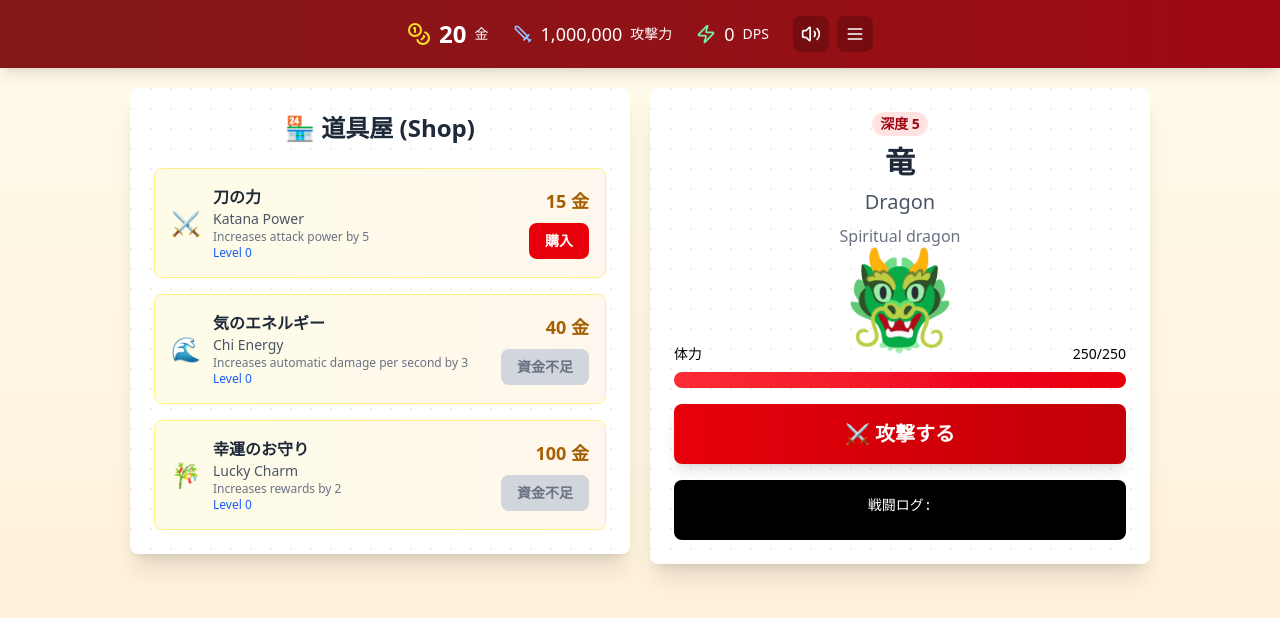
Test: generated bestiary › uses generated flavour once it has been cached
Click the button "⚔️ 攻撃する" at (900, 434), box [674,404,1126,464]
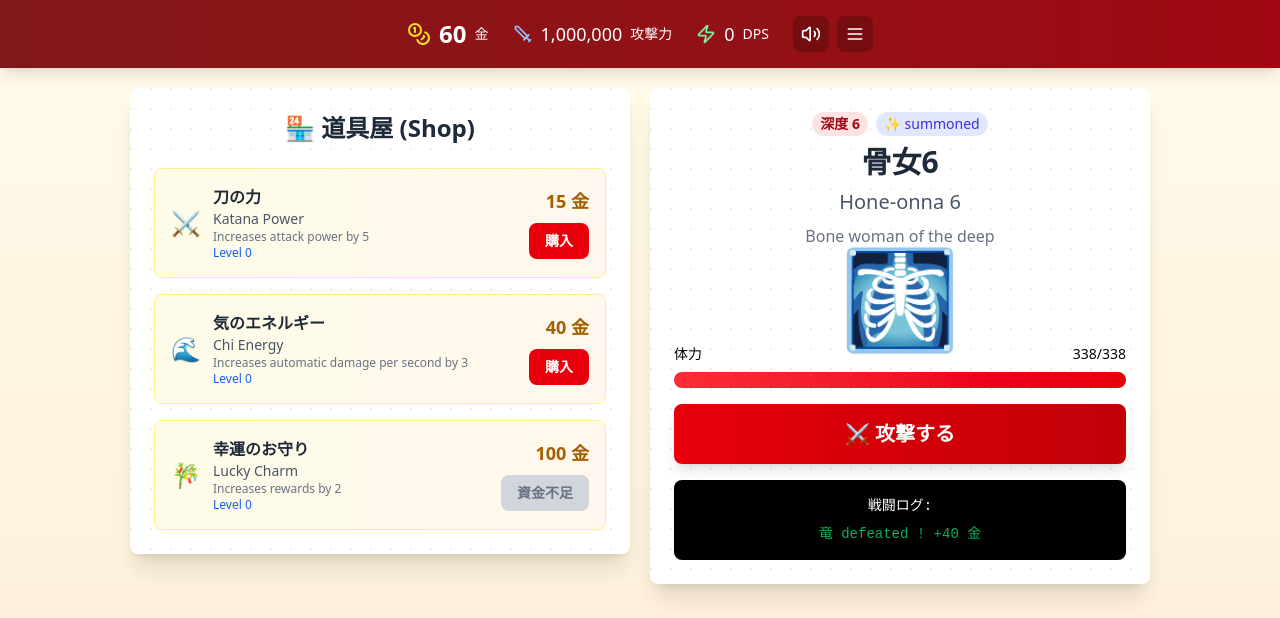
Check: the text "✨ summoned" is shown, box [876,112,988,136]
